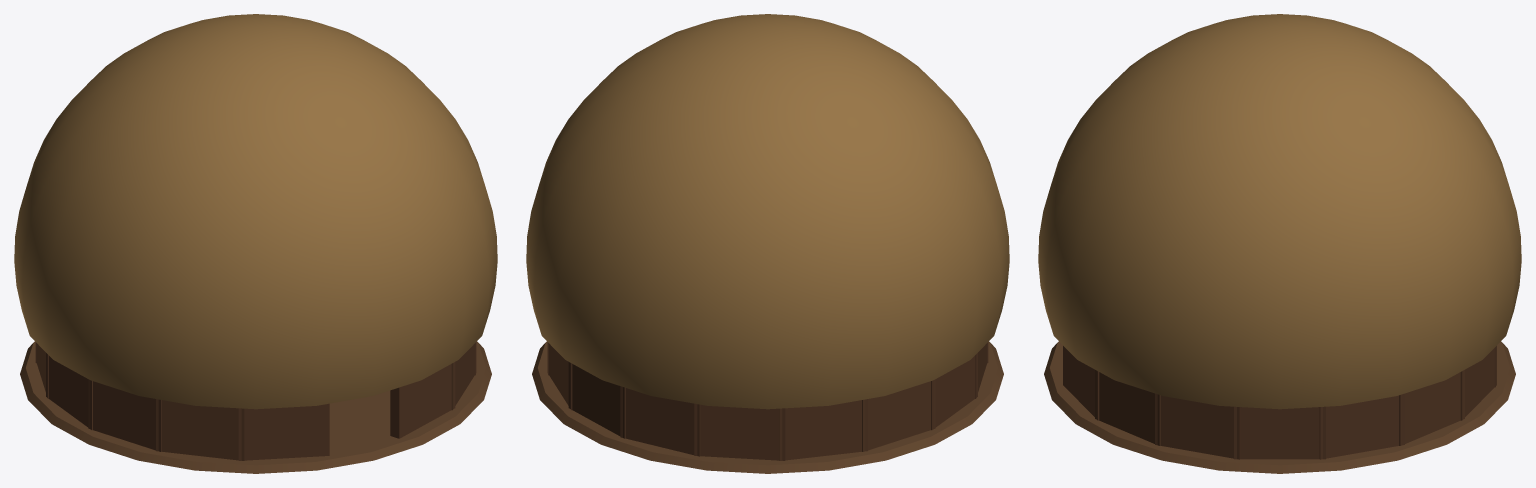
File: honai-papua.glb
3 renders of one model, left to right at view 1: azimuth 30°, elevation 25°; view 2: azimuth 150°, elevation 25°; view 3: azimuth 270°, elevation 25°, orthographic.
Parts seen in each view (by area): view 1: ROOF_SYSTEM, WALL_SYSTEM, FLOOR_SYSTEM; view 2: ROOF_SYSTEM, WALL_SYSTEM, FLOOR_SYSTEM; view 3: ROOF_SYSTEM, WALL_SYSTEM, FLOOR_SYSTEM.
Part boxes in pixels (left/top/right/bottom): ROOF_SYSTEM: left=14, top=14, right=497, bottom=409; WALL_SYSTEM: left=35, top=342, right=476, bottom=460; FLOOR_SYSTEM: left=20, top=341, right=491, bottom=473; ROOF_SYSTEM: left=526, top=14, right=1009, bottom=409; WALL_SYSTEM: left=547, top=342, right=988, bottom=460; FLOOR_SYSTEM: left=532, top=341, right=1003, bottom=473; ROOF_SYSTEM: left=1038, top=14, right=1521, bottom=409; WALL_SYSTEM: left=1063, top=346, right=1496, bottom=459; FLOOR_SYSTEM: left=1044, top=341, right=1515, bottom=473.
Size of the model in its own units: 8.4 by 6.47 by 8.4.
